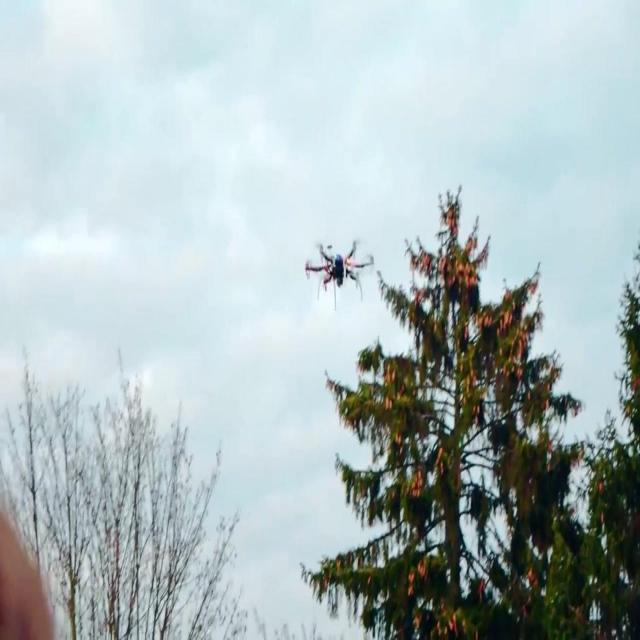UAV: (304, 239, 374, 311)
